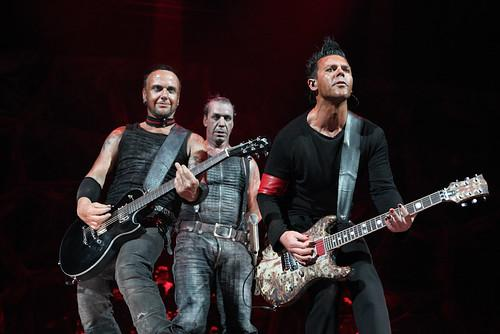acousticguitar: (57, 134, 269, 286), (253, 176, 491, 309)
